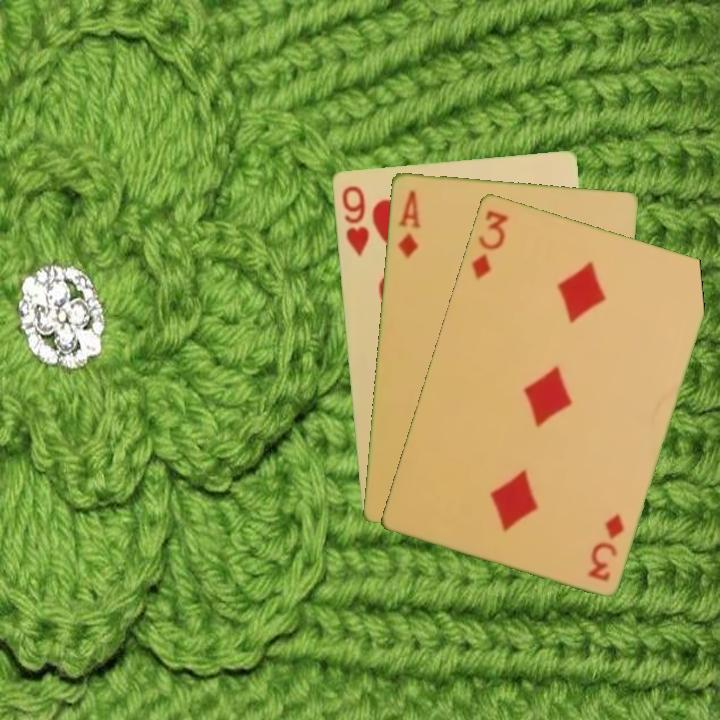3d: (467, 206, 511, 282), (584, 509, 627, 584)
9h: (338, 182, 372, 258)
Ad: (394, 186, 423, 261)
